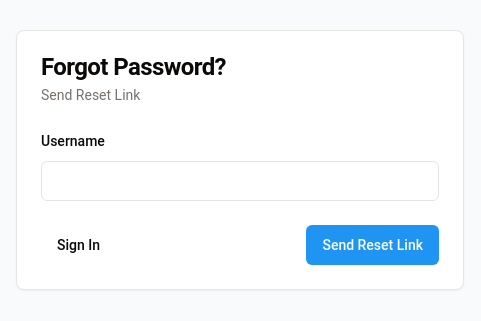
Test: ForgotPasswordForm › shows error for empty username
This screenshot has width=481, height=321.
Click the button "Send Reset Link".
click(373, 245)  # box [306,225,439,265]
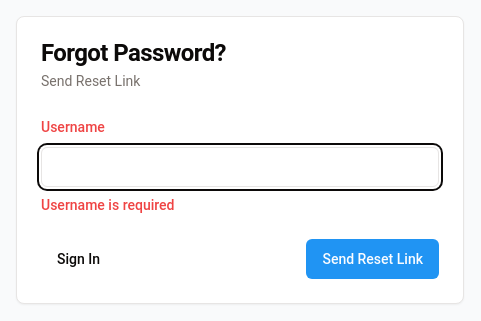
Expected: the text "Username is required" is shown, [41,197,174,213]
